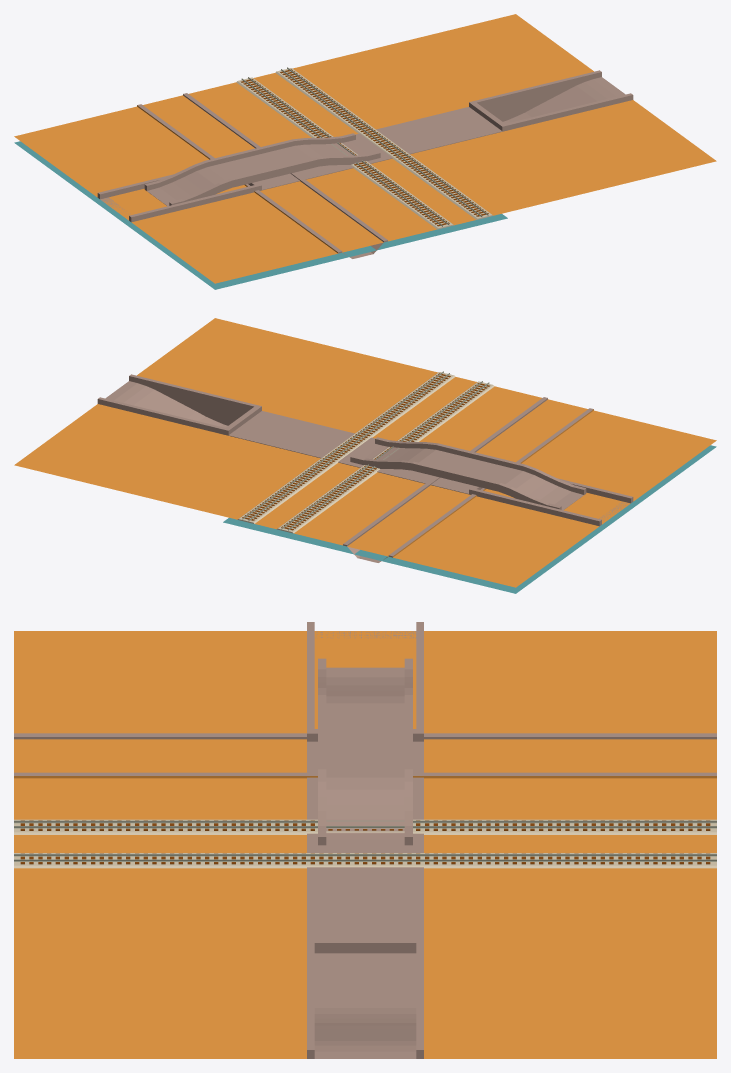
File: SandTiles.fbx
The picture shows the model from 3 angles, top to bottom: view 1: azimuth 30°, elevation 25°; view 2: azimuth 150°, elevation 25°; view 3: azimuth 270°, elevation 25°; orthographic projection. The views are drawn at different scales.
Visible parts, largest first — view 1: SM_Underpass, SM_CanalMid, SM_SandTile, Water; view 2: SM_Underpass, SM_CanalMid, SM_SandTile, Water; view 3: SM_Underpass, SM_CanalMid, SM_SandTile.
Boxes of the visible parts, left/top/right/bottom form: SM_Underpass: left=15, top=14, right=716, bottom=282; SM_CanalMid: left=16, top=65, right=507, bottom=283; SM_SandTile: left=14, top=95, right=388, bottom=283; Water: left=14, top=141, right=507, bottom=289; SM_Underpass: left=14, top=318, right=716, bottom=587; SM_CanalMid: left=223, top=369, right=715, bottom=587; SM_SandTile: left=347, top=399, right=716, bottom=587; Water: left=223, top=445, right=716, bottom=593; SM_Underpass: left=14, top=622, right=716, bottom=1058; SM_CanalMid: left=14, top=631, right=716, bottom=880; SM_SandTile: left=14, top=631, right=716, bottom=779.
Bounding box in the file's own units: 8000 × 11527 × 771.
Materials: 1 (1 with a texture image).
